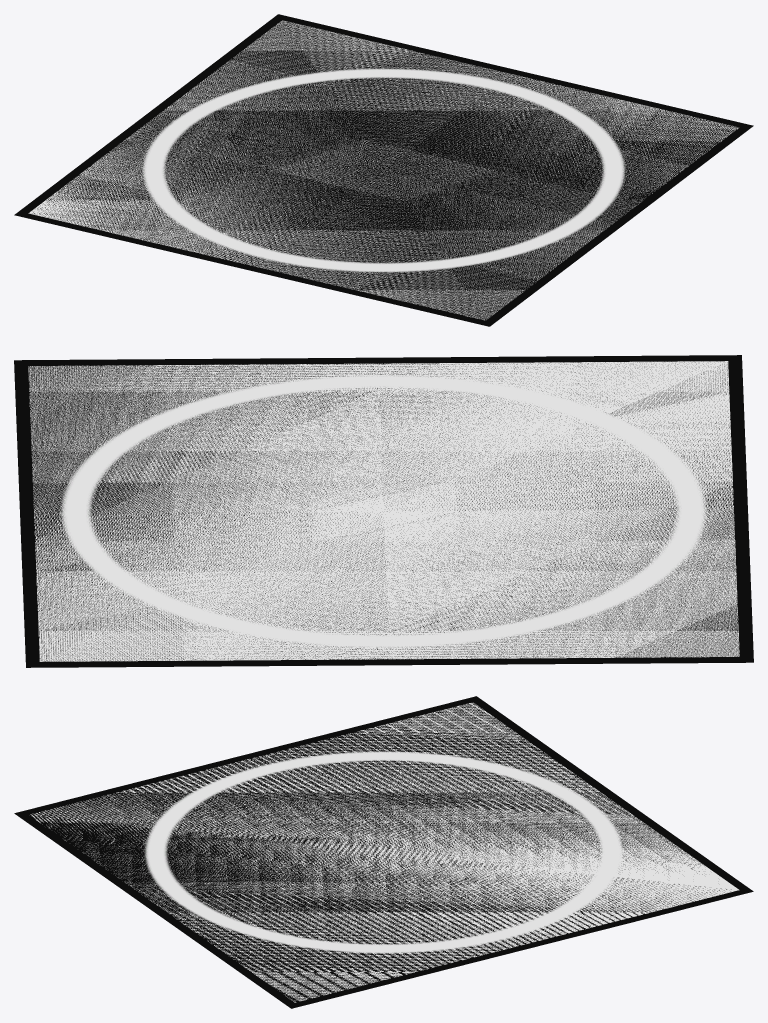
The model's file is RingParent.fbx.
3 renders of one model, top to bottom at view 1: azimuth 30°, elevation 25°; view 2: azimuth 150°, elevation 25°; view 3: azimuth 270°, elevation 25°, orthographic. The views are drawn at different scales.
Visible parts, largest first — view 1: Scale, Static; view 2: Static, Scale; view 3: Scale, Static.
Boxes of the visible parts, <box> form: Scale: <box>14,14,753,326</box>; Static: <box>28,20,738,320</box>; Static: <box>28,361,739,661</box>; Scale: <box>14,355,753,667</box>; Scale: <box>14,696,753,1008</box>; Static: <box>30,702,739,1002</box>.
Bounding box in the file's own units: 1.71 × 1.66e-07 × 1.71.
